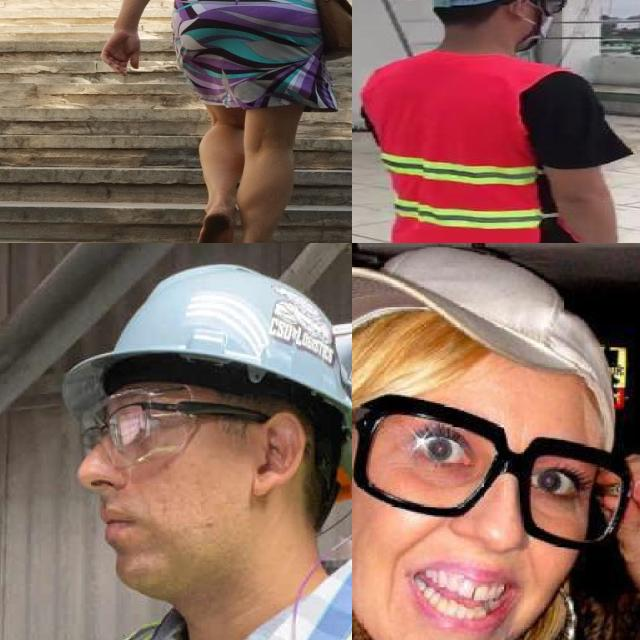Barefoots: (195, 209, 236, 243)
No_Ear-Protection: (251, 408, 306, 499)
face_nomask: (356, 399, 588, 628)
glasses: (352, 388, 638, 546)
hand_noglove: (585, 437, 640, 606)
head_nohelmet: (352, 246, 596, 382)
person: (352, 0, 640, 243)
vest: (359, 53, 554, 243)
